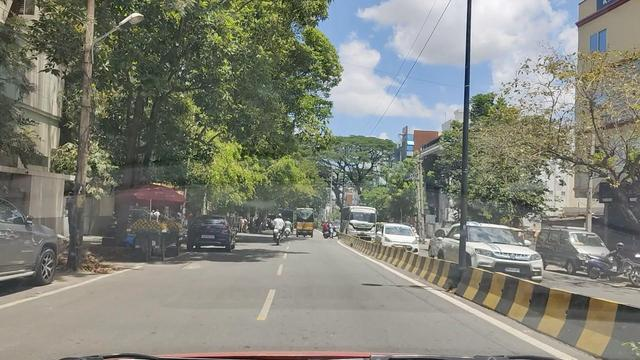LMV: (194, 206, 251, 260), (272, 210, 284, 238)
